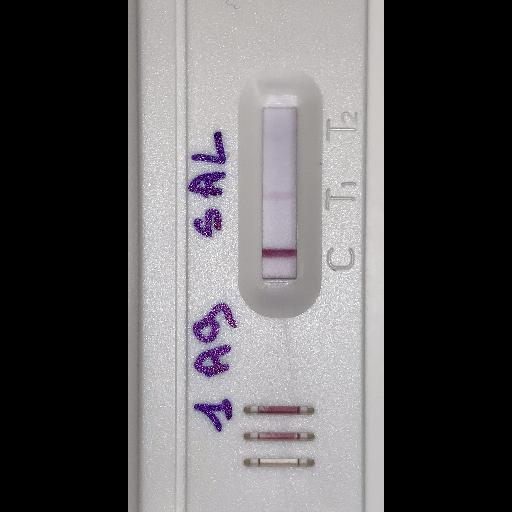Pos: (135, 0, 368, 511)
